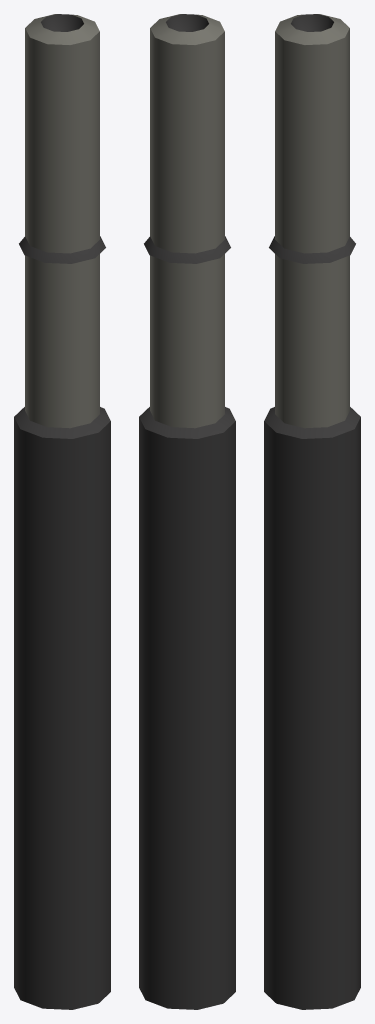
Rendered from gasfunnel1.fbx.
3 renders of one model, left to right at view 1: azimuth 30°, elevation 25°; view 2: azimuth 210°, elevation 25°; view 3: azimuth 330°, elevation 25°, orthographic.
Visible parts, largest first — view 1: gasfunnel1; view 2: gasfunnel1; view 3: gasfunnel1.
Boxes of the visible parts, bbox=[...] form: gasfunnel1: bbox=[14, 14, 110, 1009]; gasfunnel1: bbox=[139, 14, 235, 1009]; gasfunnel1: bbox=[264, 14, 360, 1009].
Bounding box in the file's own units: 134 × 1467 × 127.
